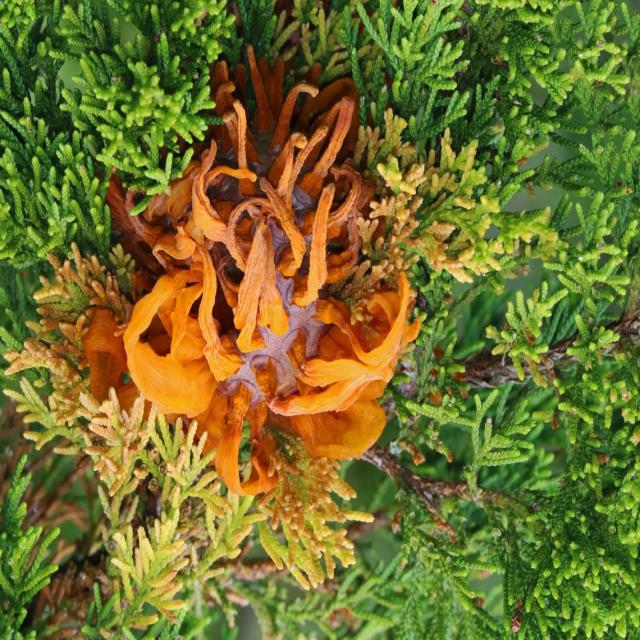Gymnosporangium_Rusts: (108, 44, 423, 500)
